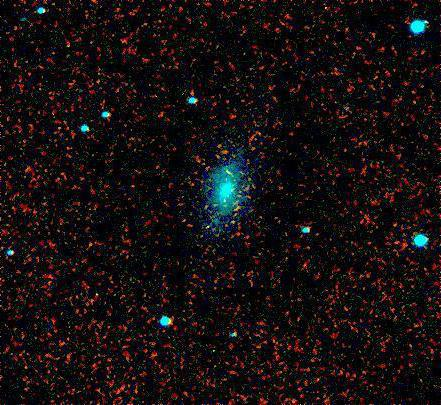star: (213, 158, 243, 188)
